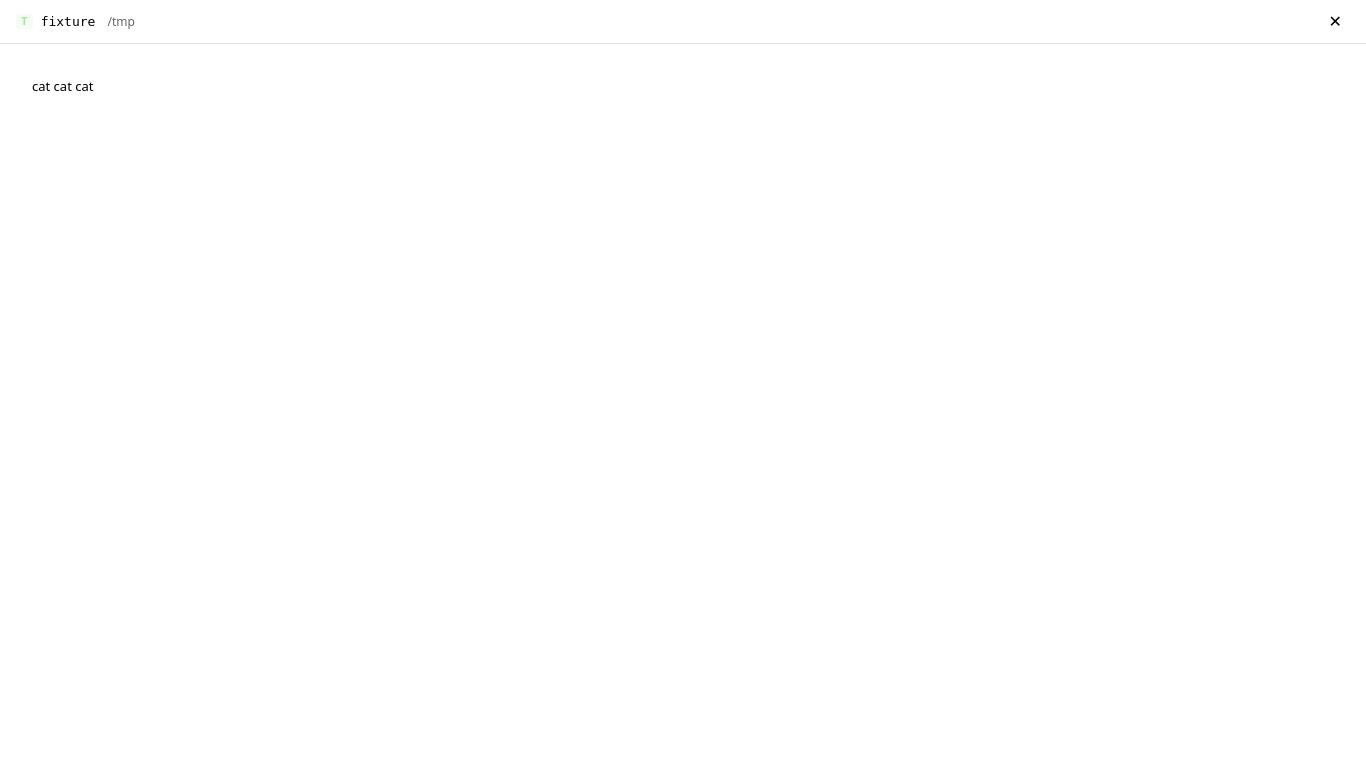
it: App keyboard handling › closing search via the close button restores the viewer to its unsearched state
Press f
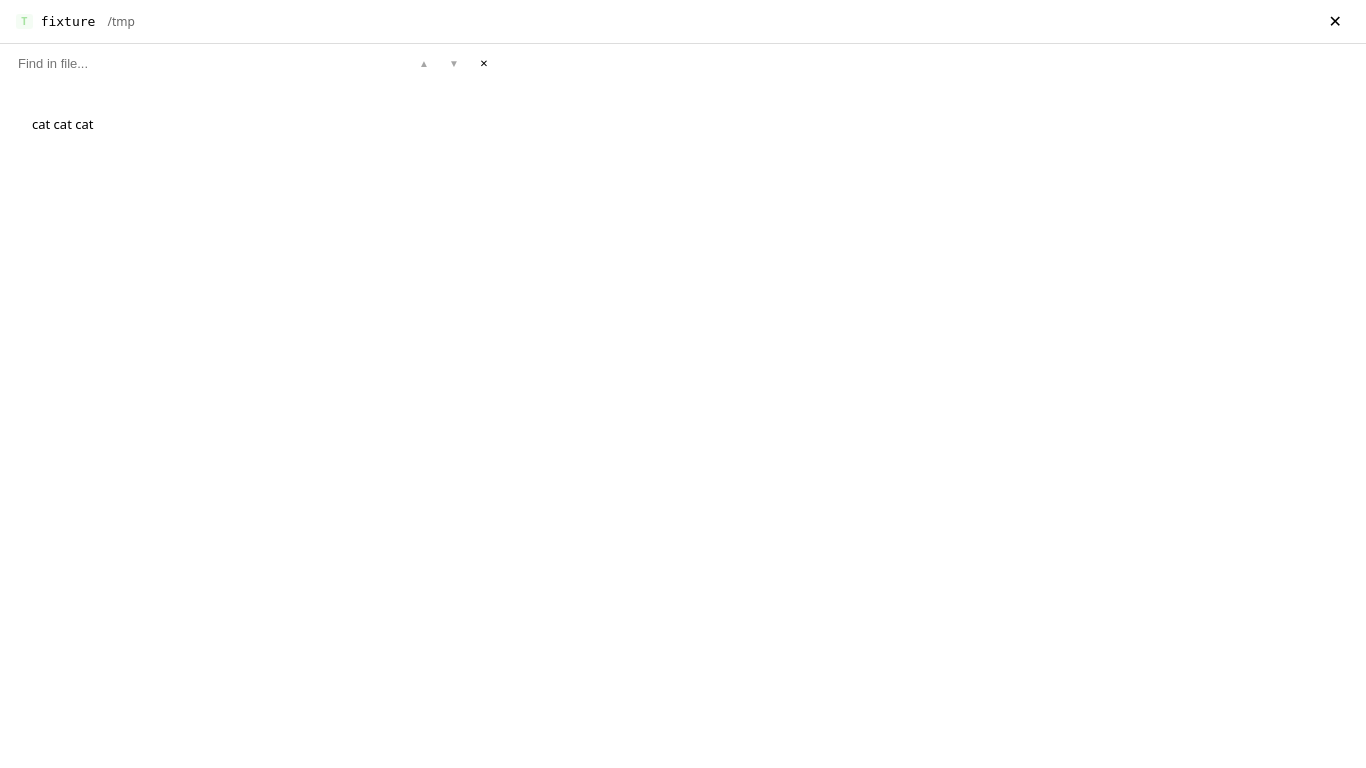
Type "cat" into the field with placeholder "Find in file...". click: (170, 63)
box: x1=10 y1=49 x2=330 y2=77
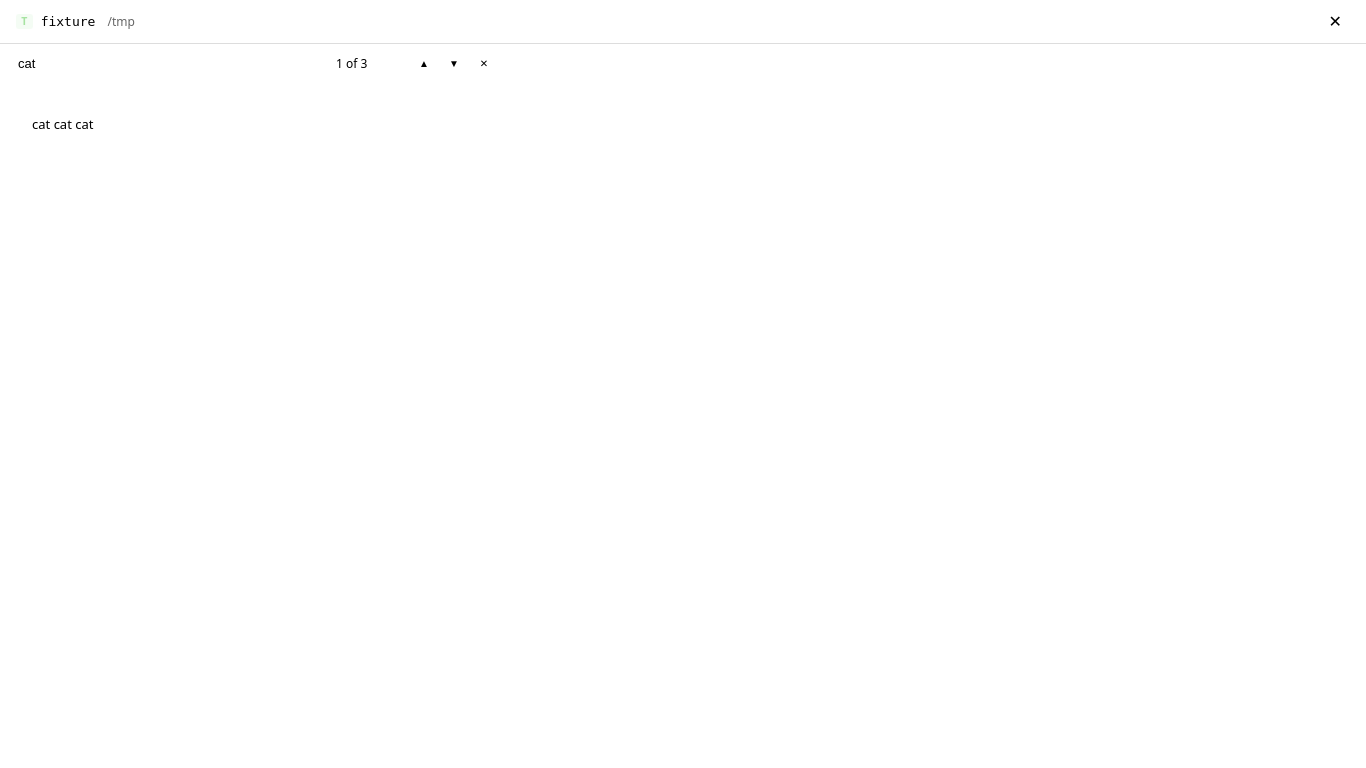
expect the number of elements with class "search-match" is 3: met, box x1=32 y1=115 x2=50 y2=133; x1=54 y1=115 x2=72 y2=133; x1=75 y1=115 x2=94 y2=133
Click the button with class "search-close". click: (484, 63)
box: x1=472 y1=51 x2=496 y2=75
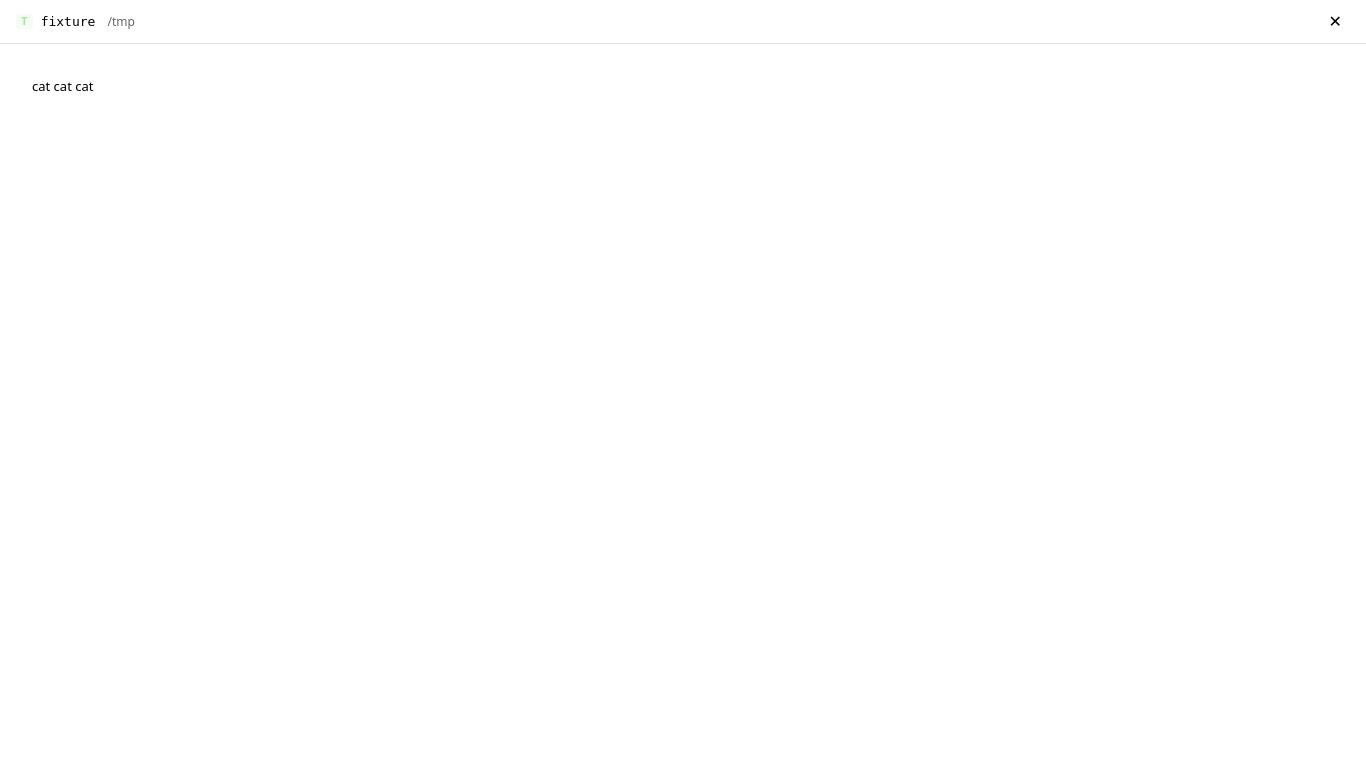
expect the element with class "search-bar" is gone: met
expect no elements with class "search-match" are shown: met
